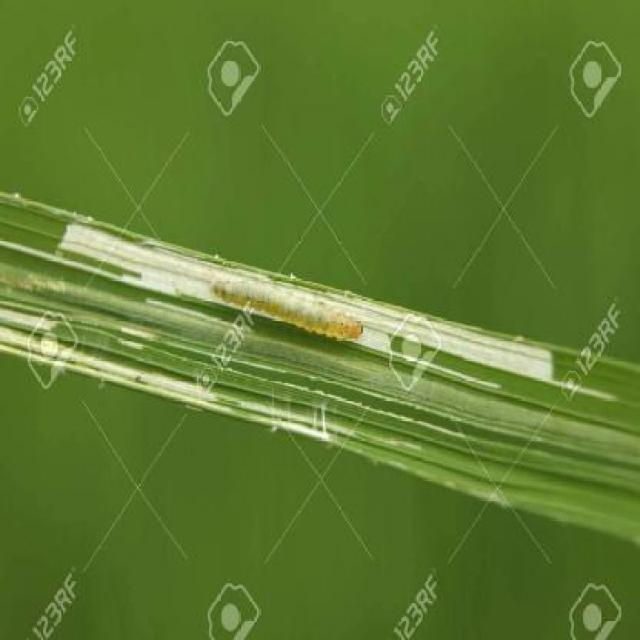leaf-folder: (200, 250, 369, 372)
